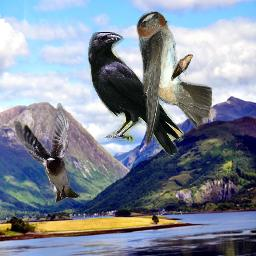Crow: (88, 32, 184, 156)
Cuckoo: (170, 54, 193, 81)
Swallow: (136, 11, 212, 147), (14, 103, 81, 202)
